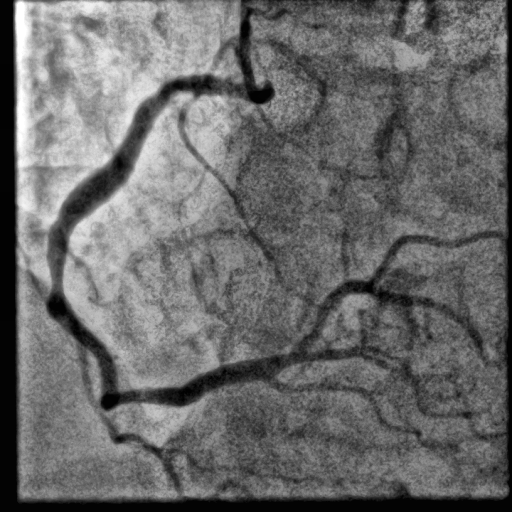pborca: (274, 279, 484, 376)
pda: (268, 377, 447, 451)
rca: (47, 75, 277, 410)
